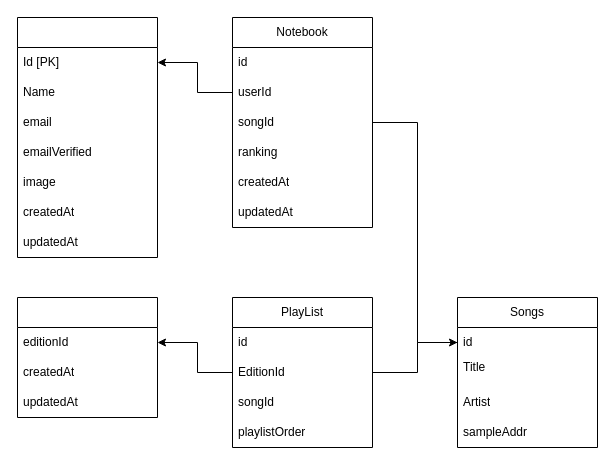
Some shapes in this 615 by 465 pixel diagram are drawn without their labels. Each missing label, with the box of its shape:
Editi ons: (16, 296, 158, 418)
Users: (16, 16, 158, 258)
